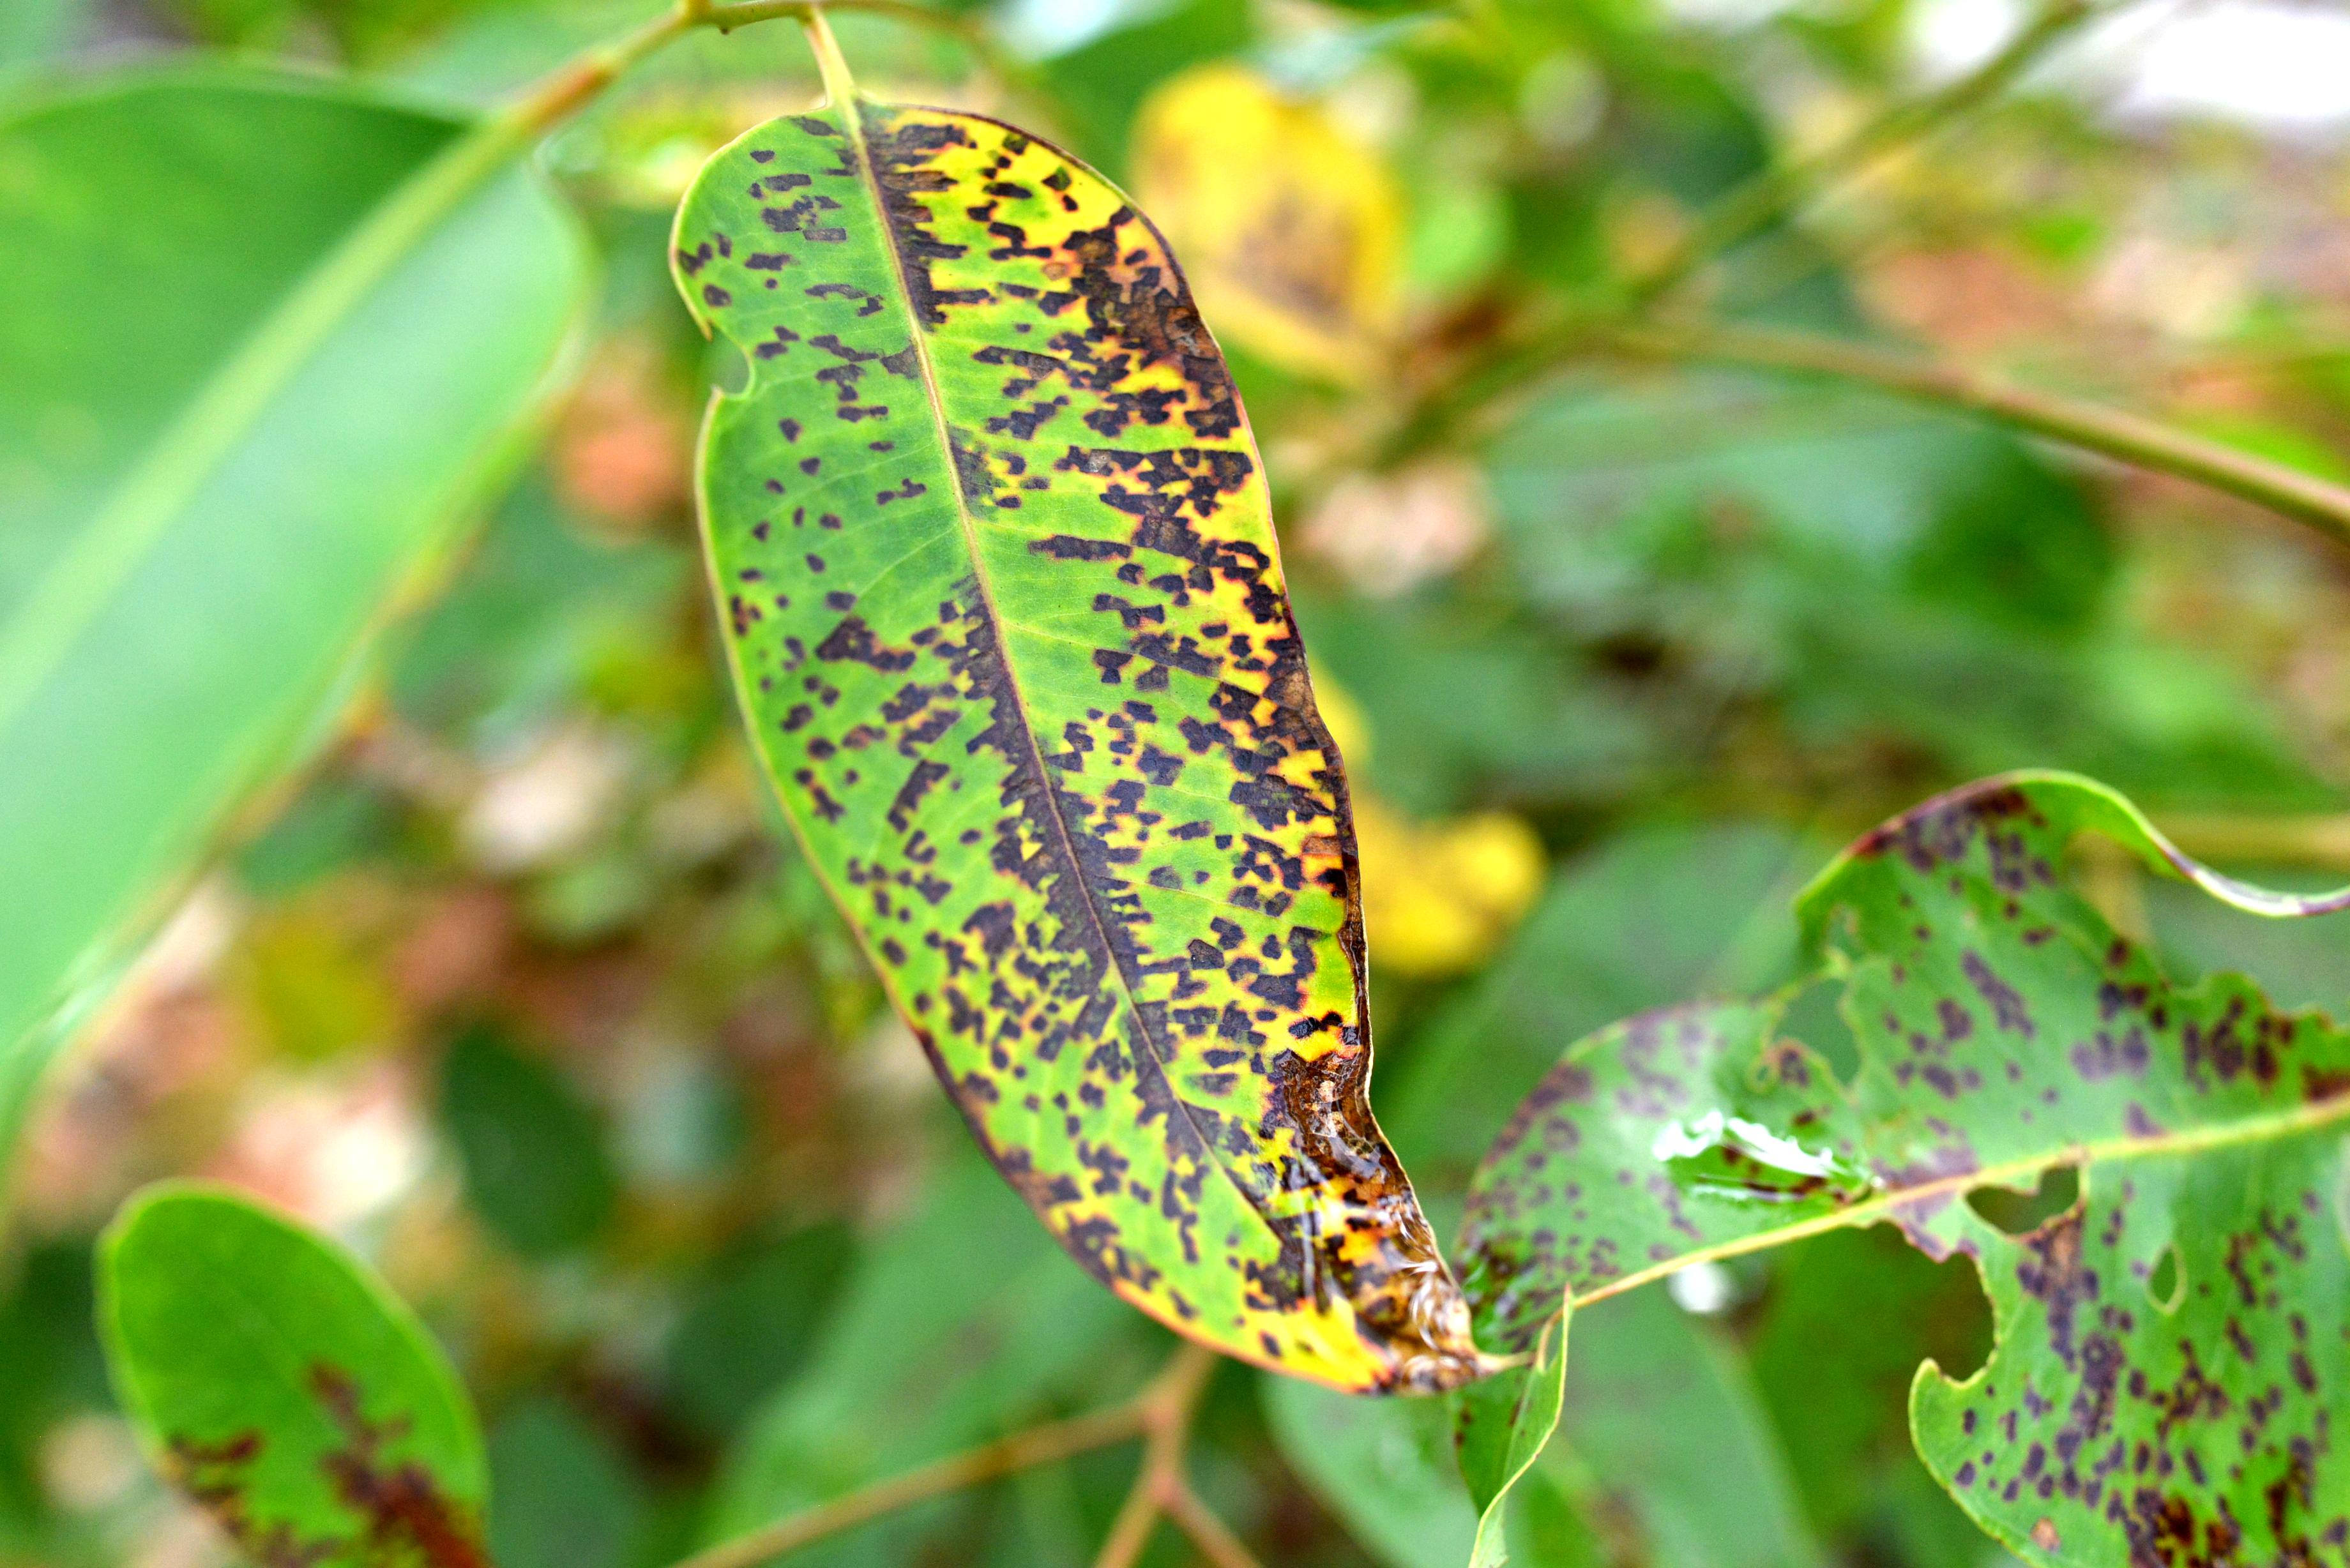Xanthomonas: (691, 107, 1367, 1276), (1872, 847, 2350, 1568)
